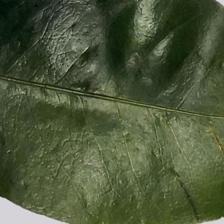healthy: (17, 12, 217, 224)
